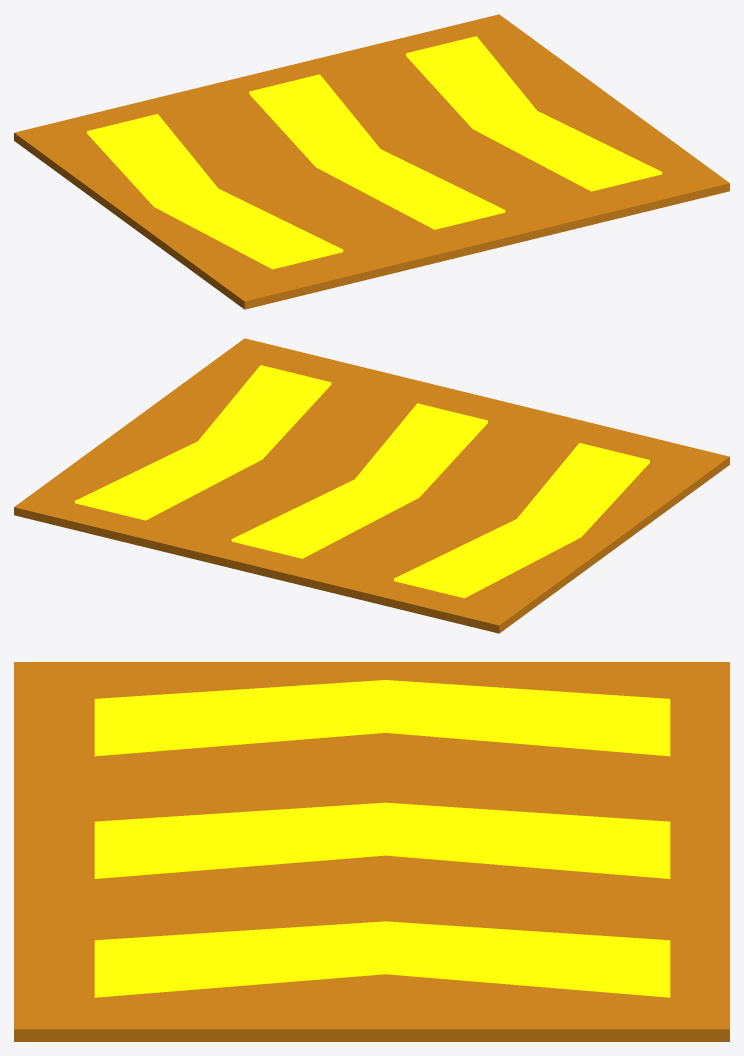
The model's file is boost.fbx.
The picture shows the model from 3 angles, top to bottom: view 1: azimuth 30°, elevation 25°; view 2: azimuth 150°, elevation 25°; view 3: azimuth 270°, elevation 25°; orthographic projection. The views are drawn at different scales.
Parts seen in each view (by area): view 1: Cube, Plane.002, Plane.001, Plane; view 2: Cube, Plane.001, Plane.002, Plane; view 3: Cube, Plane, Plane.002, Plane.001.
Boxes of the visible parts, x1=… form: Cube: x1=14, y1=14, x2=729, y2=309; Plane.002: x1=406, y1=36, x2=662, y2=191; Plane.001: x1=249, y1=74, x2=505, y2=229; Plane: x1=87, y1=114, x2=343, y2=269; Cube: x1=14, y1=338, x2=729, y2=633; Plane.001: x1=231, y1=403, x2=487, y2=558; Plane.002: x1=75, y1=365, x2=331, y2=520; Plane: x1=394, y1=443, x2=649, y2=598; Cube: x1=14, y1=662, x2=729, y2=1041; Plane: x1=94, y1=680, x2=670, y2=756; Plane.002: x1=94, y1=921, x2=670, y2=997; Plane.001: x1=94, y1=802, x2=670, y2=878.
Size of the model in its own units: 667 by 13.92 by 549.
